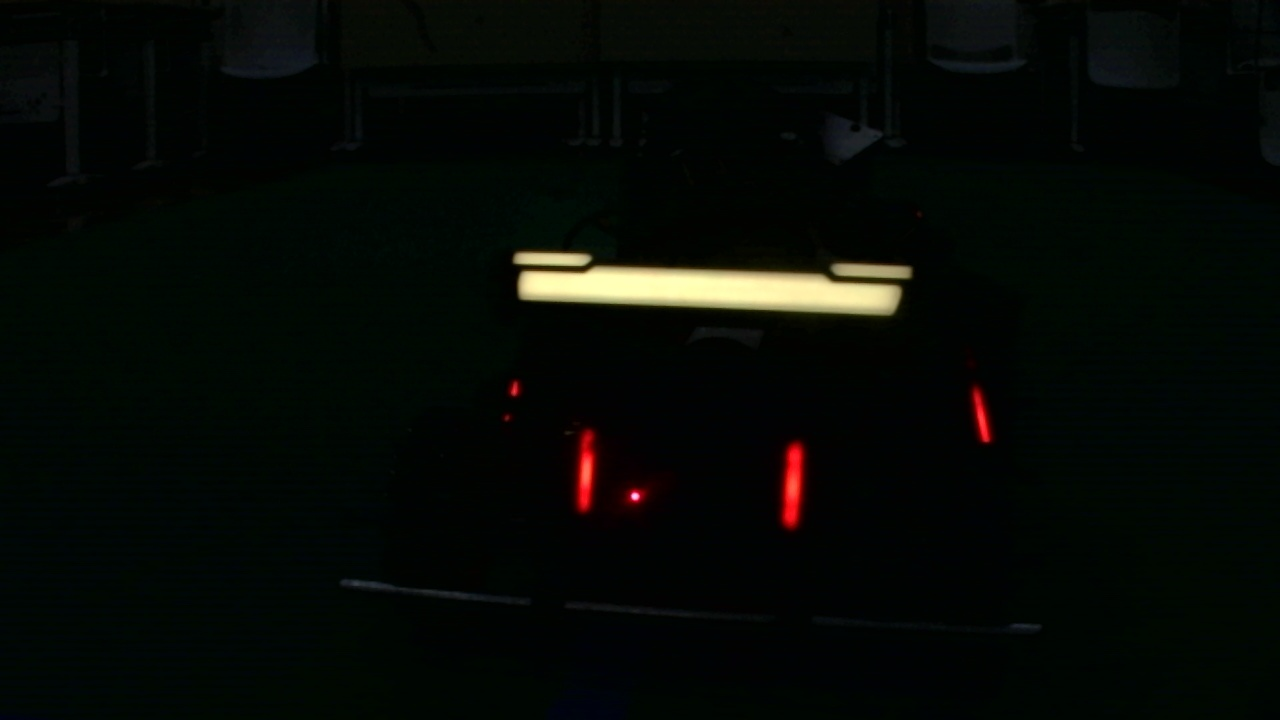lamp: (574, 429, 597, 515), (781, 436, 801, 527), (969, 381, 991, 442)
notpair1: (787, 381, 993, 527)
pair1: (575, 438, 803, 529)
